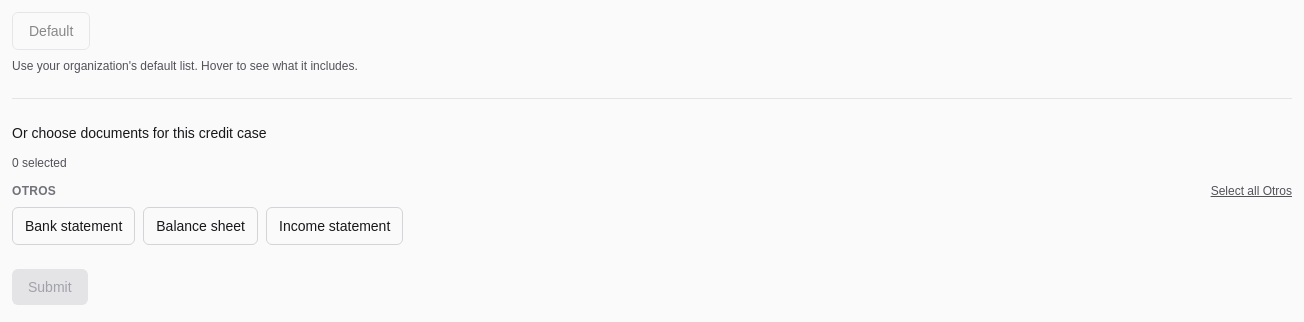
FileTypeChooser › lists the default template's documents on hover
Hover over the button "Default" at (51, 31), box [12, 12, 90, 50]
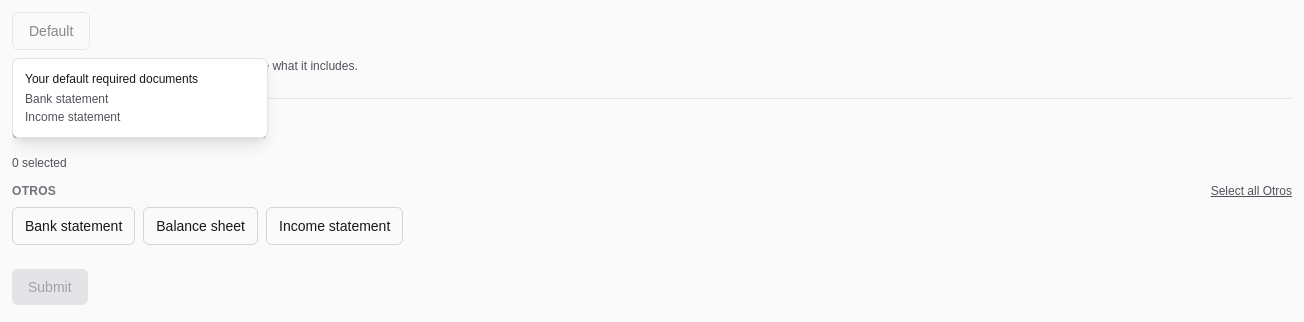
Expected: the tooltip does not show "Balance sheet", [12, 58, 268, 138]
Expected: the tooltip shows "Bank statement", [25, 92, 108, 106]
Expected: the tooltip shows "Income statement", [25, 110, 120, 124]
